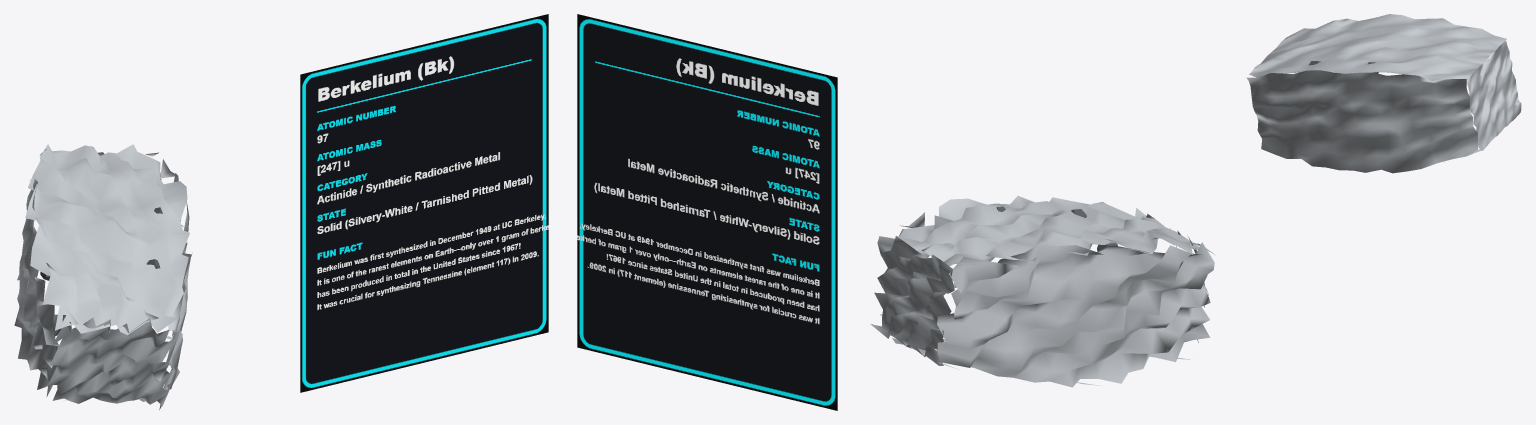
The model's file is berkelium.glb.
The picture shows the model from 3 angles, left to right: view 1: azimuth 30°, elevation 25°; view 2: azimuth 150°, elevation 25°; view 3: azimuth 270°, elevation 25°; orthographic projection. The views are drawn at different scales.
Visible parts, largest first — view 1: Mesh_9, Mesh_0; view 2: Mesh_9, Mesh_0; view 3: Mesh_0.
Part boxes in pixels (left/top/right/bottom): Mesh_9: left=300, top=14, right=548, bottom=392; Mesh_0: left=14, top=144, right=192, bottom=409; Mesh_9: left=577, top=14, right=837, bottom=410; Mesh_0: left=870, top=196, right=1215, bottom=387; Mesh_0: left=1246, top=14, right=1521, bottom=173.
Size of the model in its own units: 2.54 by 1.4 by 1.32.
3 materials, 1 textured.
